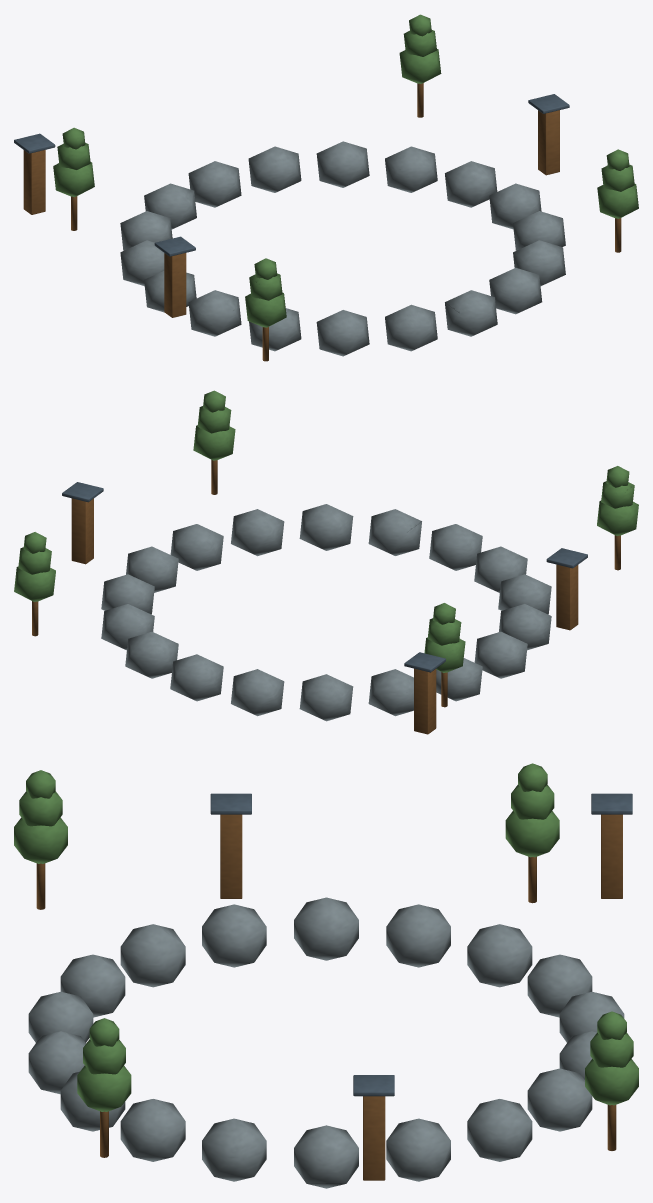
The model's file is environment.glb.
3 views of the same model, one above another, from view 1: azimuth 30°, elevation 25°; view 2: azimuth 150°, elevation 25°; view 3: azimuth 270°, elevation 25° (orthographic). The views are drawn at different scales.
Parts seen in each view (by area): view 1: Game_Mesh; view 2: Game_Mesh; view 3: Game_Mesh.
Part boxes in pixels (x1,y1,x2,y2): Game_Mesh: [14, 14, 638, 361]; Game_Mesh: [14, 390, 638, 734]; Game_Mesh: [14, 763, 638, 1188].
Bounding box in the file's own units: 44.6 × 12.8 × 39.4.
Materials: 1 (1 with a texture image).
